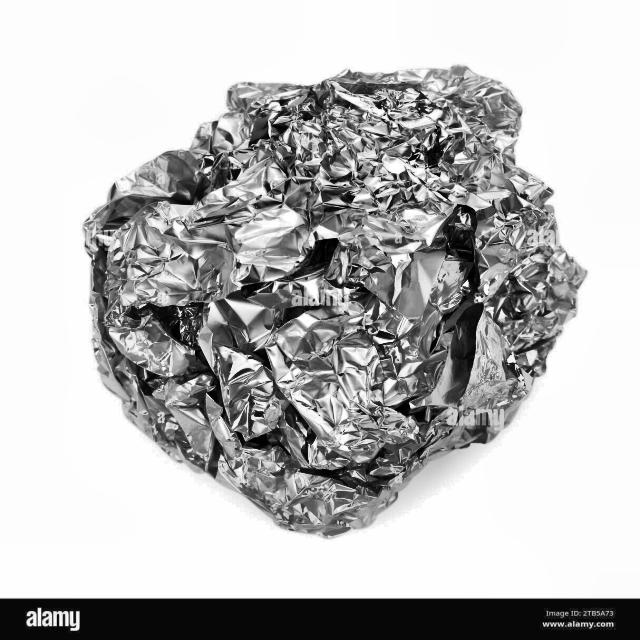Foil: (66, 37, 598, 559)
